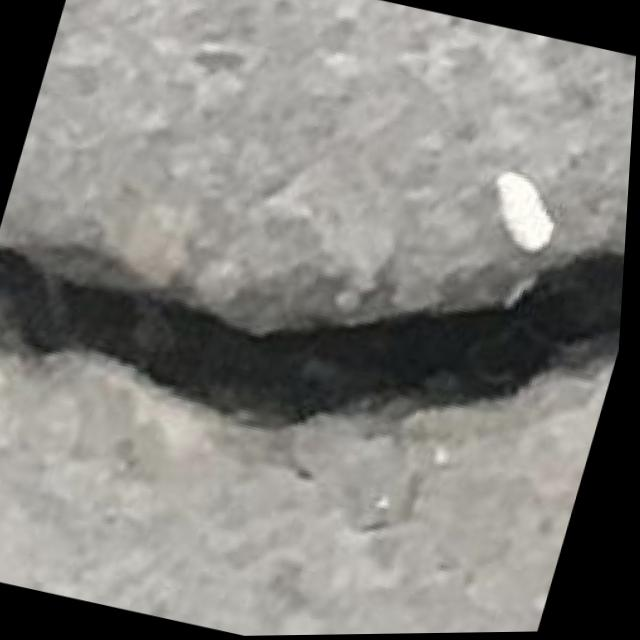Crack: (0, 86, 636, 530)
